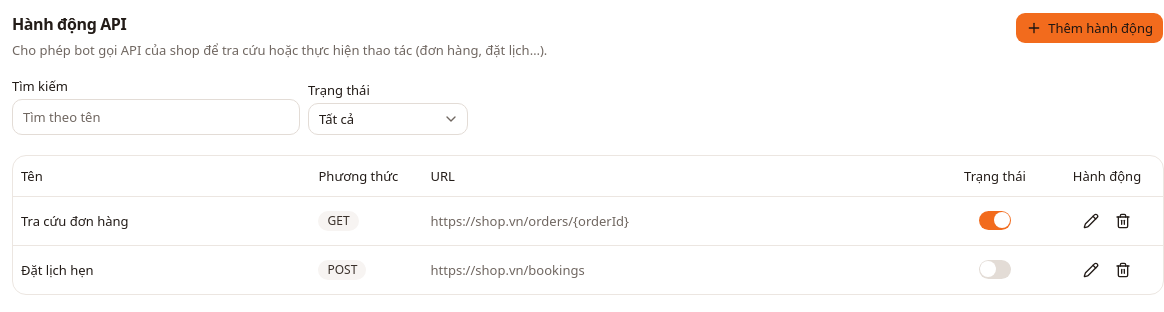
ActionList › filters by status
Expected: the heading "Hành động API" is shown, x1=12 y1=13 x2=126 y2=35
Expected: the text "Tra cứu đơn hàng" is shown, x1=13 y1=196 x2=310 y2=245
Click the dropdown named "Trạng thái" at (388, 119), box x1=308 y1=103 x2=468 y2=135
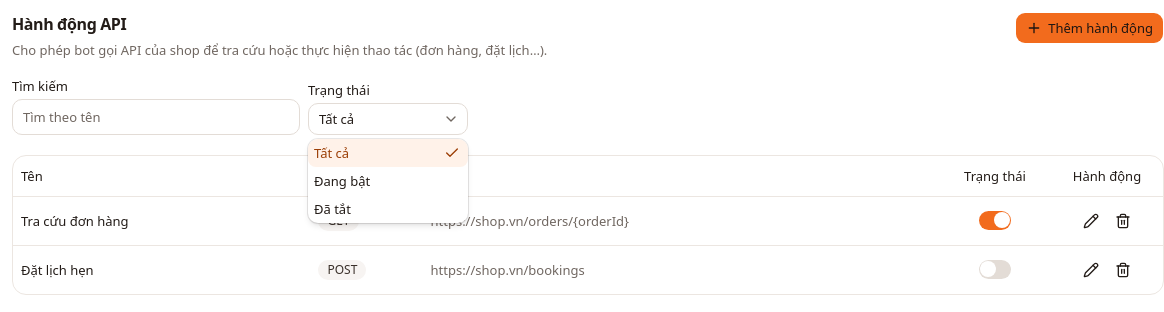
Click the option "Đã tắt" at (332, 209), box x1=314 y1=200 x2=351 y2=218
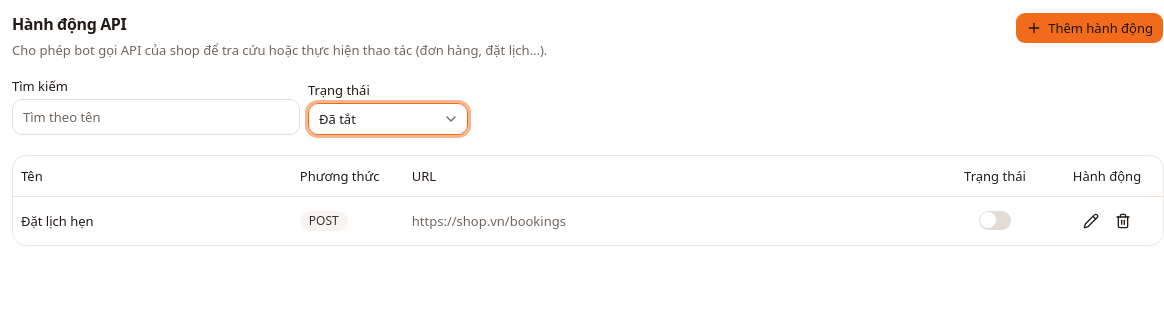
Expected: the text "Đặt lịch hẹn" is shown, x1=13 y1=196 x2=292 y2=244
Result: the text "Tra cứu đơn hàng" is gone
